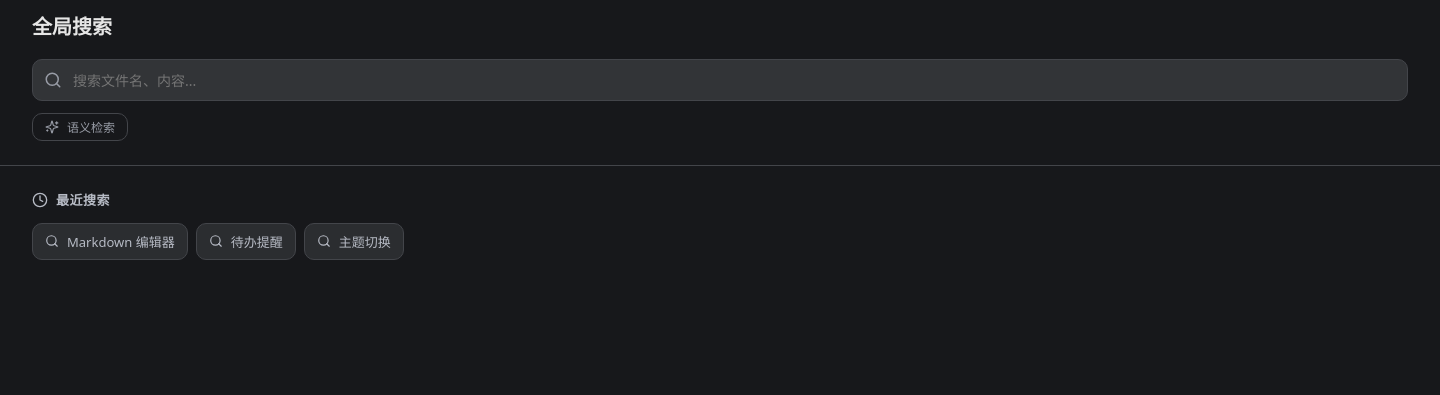
Test: SearchView › 空片段结果滚入视区时按需调 GetSearchSnippet 补取
The image size is (1440, 395).
Step 1. Type "关键词" into the field with test id "search-input" → point(720, 80), box [32, 59, 1408, 101]
Wait 300 ms
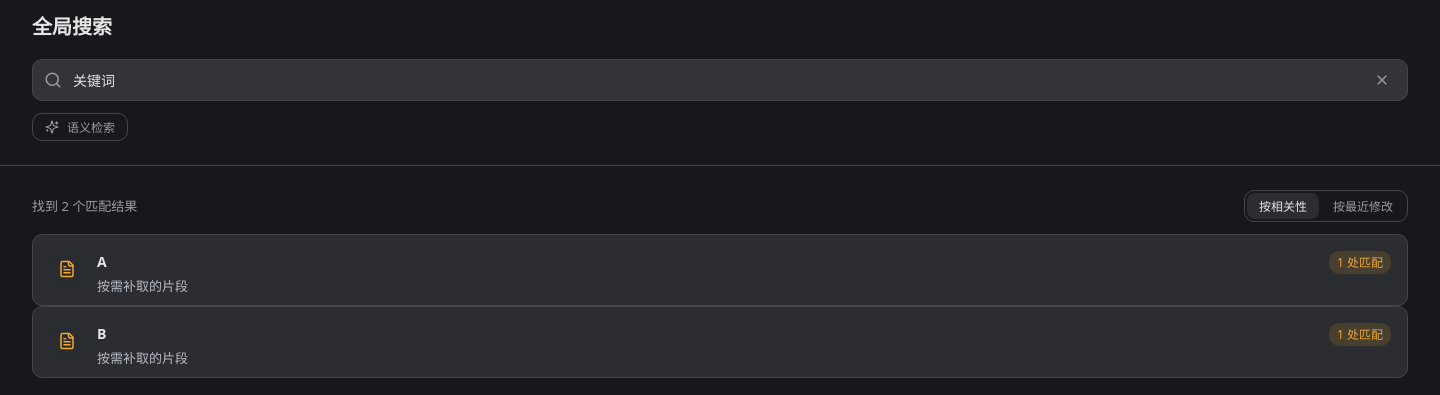
expect the text "按需补取的片段" is shown: met, box [97, 277, 188, 295]
